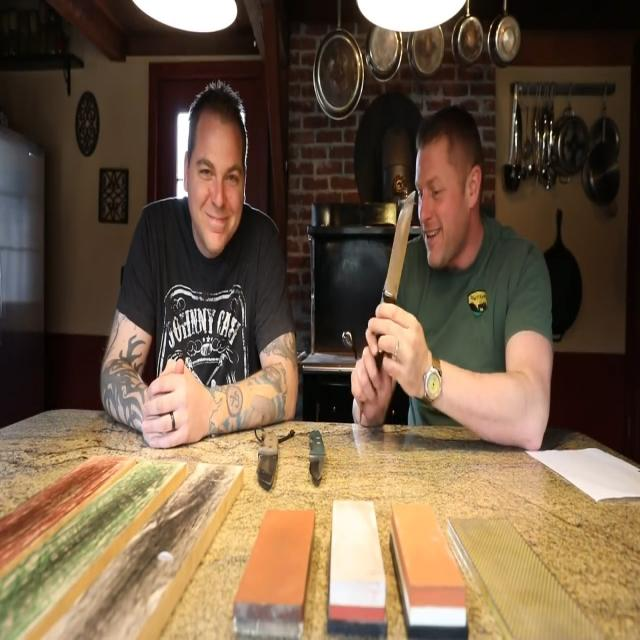knife: (385, 192, 422, 311), (308, 424, 331, 489), (259, 424, 281, 490)
